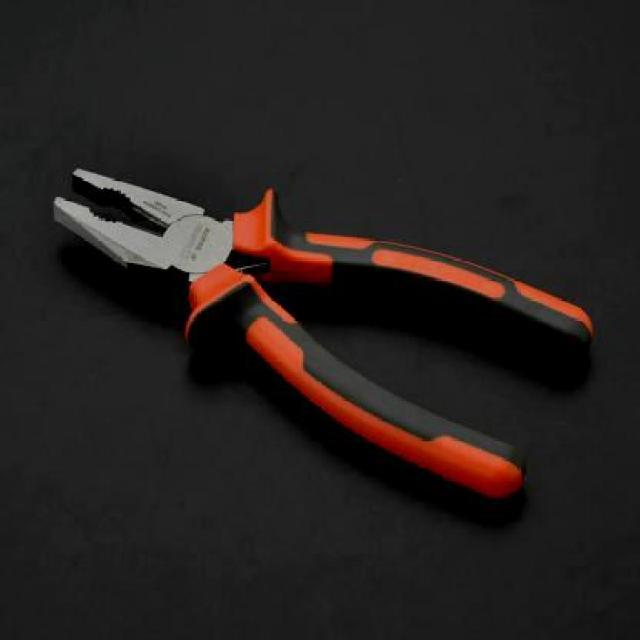pliers: (41, 158, 598, 514)
